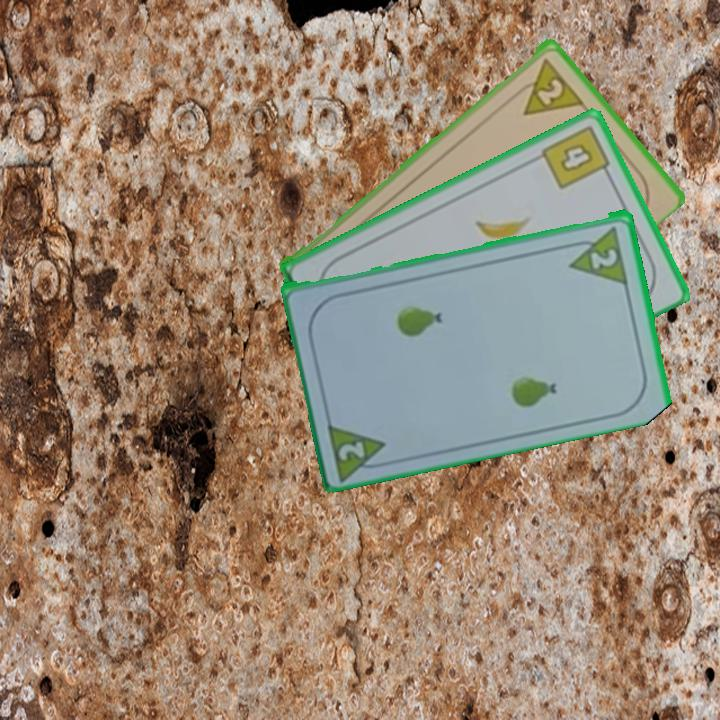2p: (509, 54, 585, 118), (563, 222, 631, 286), (335, 436, 369, 463)
4b: (537, 121, 615, 192)
